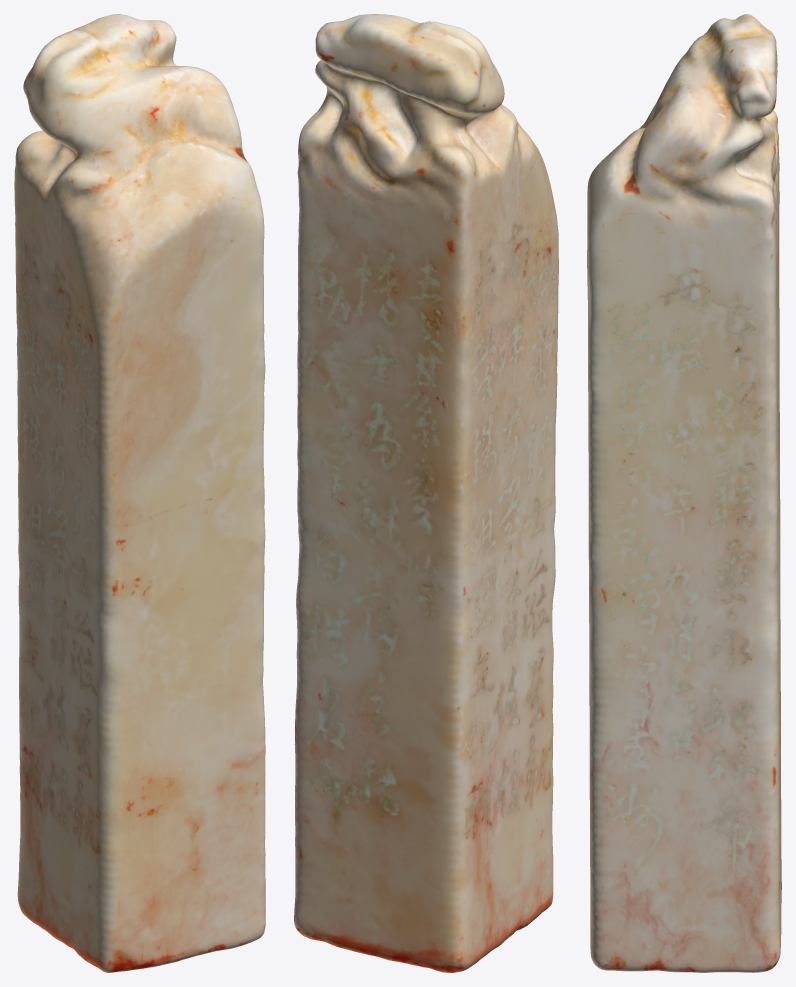
3 views of the same model, side by side, from view 1: azimuth 30°, elevation 25°; view 2: azimuth 150°, elevation 25°; view 3: azimuth 270°, elevation 25° (orthographic). The views are drawn at different scales.
Parts seen in each view (by area): view 1: lowpoly.007; view 2: lowpoly.007; view 3: lowpoly.007.
Part boxes in pixels (box(x1,y1,x2,y2)): lowpoly.007: box(14, 14, 265, 972); lowpoly.007: box(294, 14, 558, 972); lowpoly.007: box(587, 14, 781, 972).
Bounding box in the file's own units: 2.5 × 12.52 × 2.47.
1 material, 1 textured.
